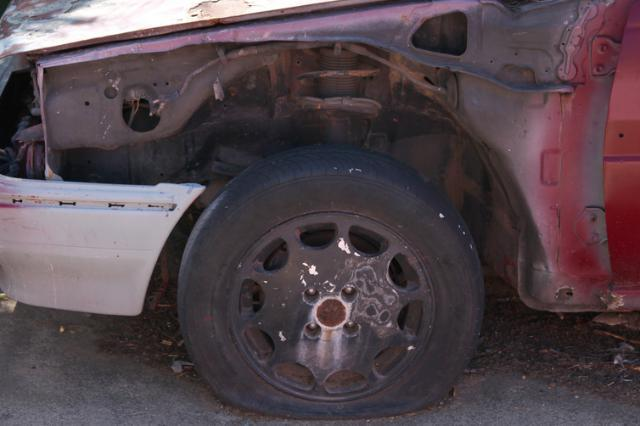Fender: (34, 8, 583, 190)
